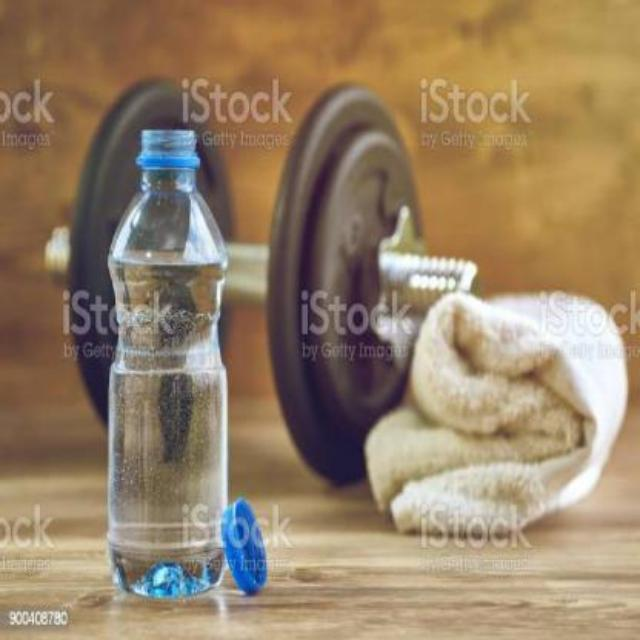bottle: (104, 126, 229, 610)
